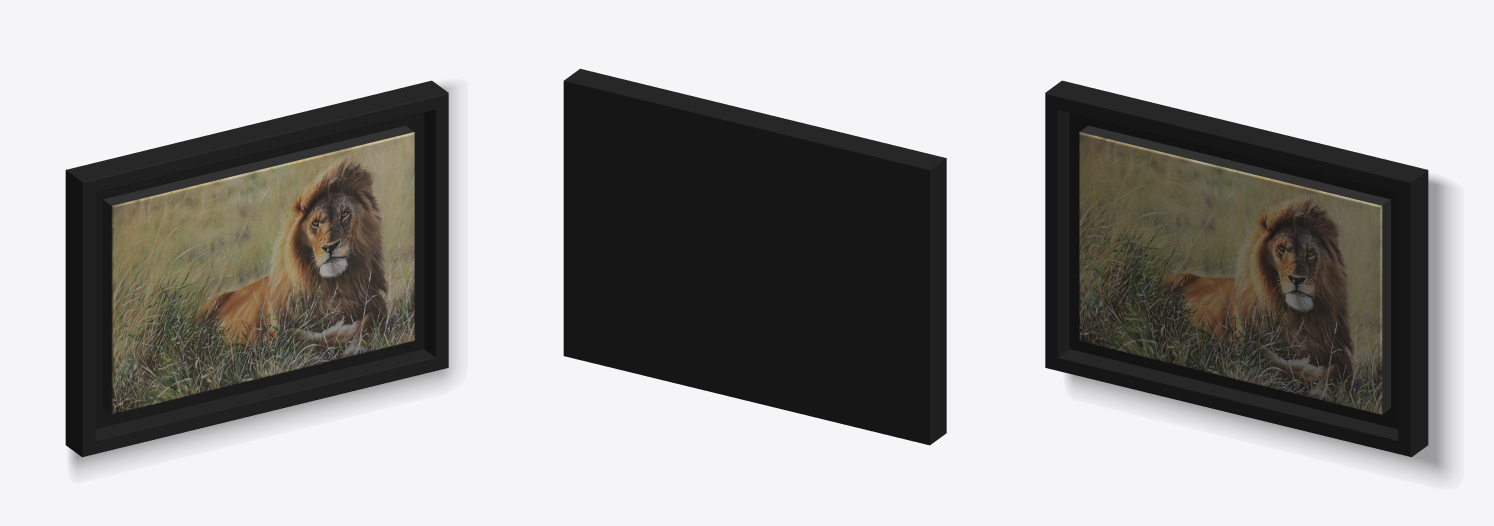
The model's file is tableau-lion-classique-25041eba.glb.
The picture shows the model from 3 angles, left to right: view 1: azimuth 30°, elevation 25°; view 2: azimuth 150°, elevation 25°; view 3: azimuth 330°, elevation 25°; orthographic projection.
Parts seen in each view (by area): view 1: Painting; view 2: Painting; view 3: Painting.
Part boxes in pixels (x1=…): Painting: x1=65, y1=80, x2=453, y2=470; Painting: x1=563, y1=68, x2=946, y2=445; Painting: x1=1045, y1=80, x2=1449, y2=475.
Size of the model in its own units: 0.636 by 0.496 by 0.04.
5 materials, 3 textured.
